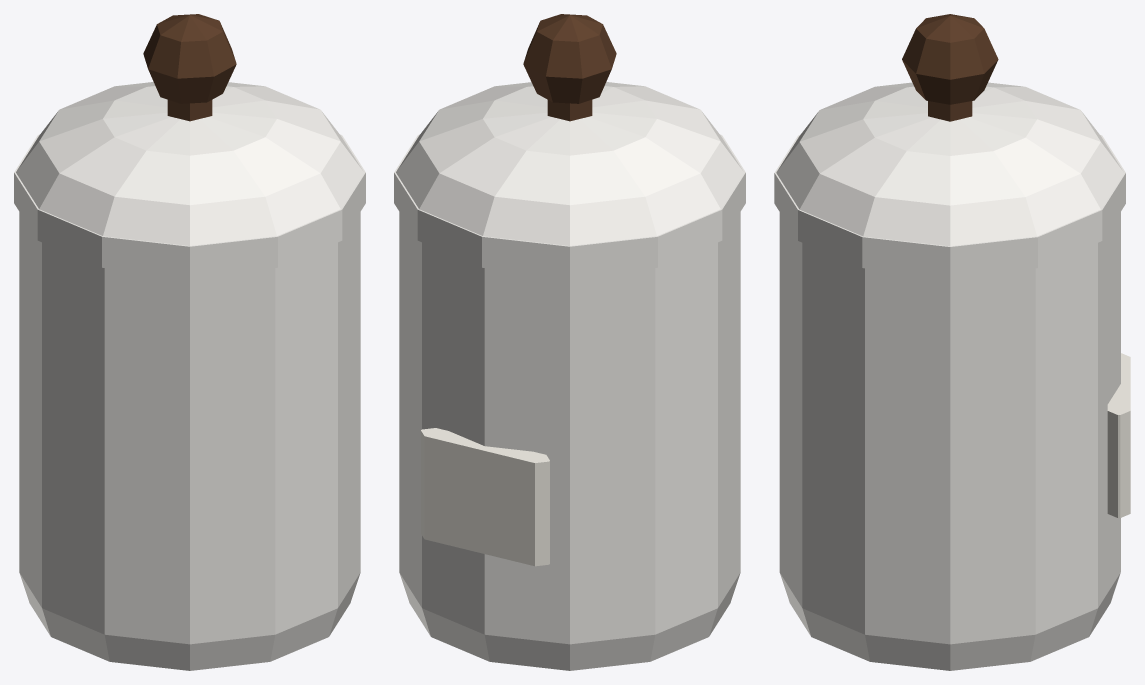
The model's file is SM_LPI_Ware_Canister_01.fbx.
The picture shows the model from 3 angles, left to right: view 1: azimuth 30°, elevation 25°; view 2: azimuth 150°, elevation 25°; view 3: azimuth 270°, elevation 25°; orthographic projection.
Parts seen in each view (by area): view 1: SM_LPI_Ware_Canister_01; view 2: SM_LPI_Ware_Canister_01; view 3: SM_LPI_Ware_Canister_01.
Part boxes in pixels (<box>): SM_LPI_Ware_Canister_01: <box>14,14,365,670</box>; SM_LPI_Ware_Canister_01: <box>394,14,745,670</box>; SM_LPI_Ware_Canister_01: <box>774,14,1130,670</box>.
Bounding box in the file's own units: 0.1236 × 0.228 × 0.1252.
